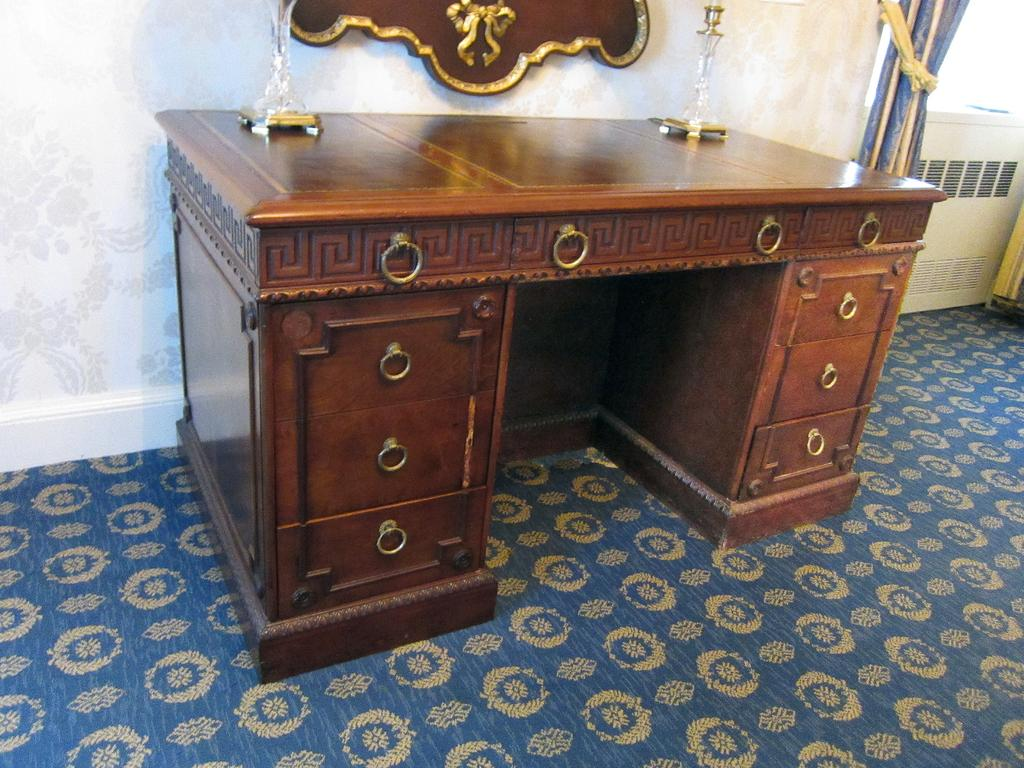cabinet_door: (274, 301, 494, 400), (286, 403, 490, 494), (294, 504, 482, 582), (519, 212, 791, 264), (282, 221, 506, 273), (787, 260, 892, 342), (769, 344, 876, 412), (748, 420, 856, 479), (803, 198, 919, 252)
handle: (376, 229, 423, 289), (374, 428, 410, 484), (374, 336, 412, 389), (552, 222, 586, 274), (748, 216, 786, 260), (375, 515, 409, 564), (833, 289, 861, 331), (856, 211, 882, 254), (819, 356, 839, 400), (807, 424, 827, 460)
